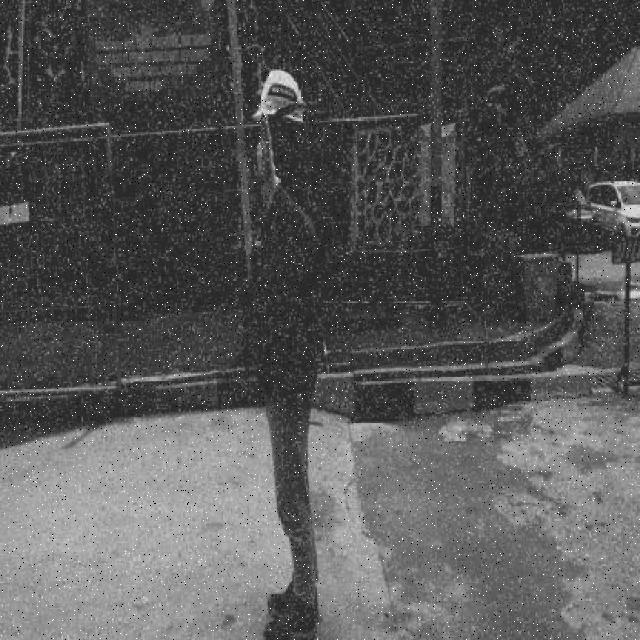Boots: (262, 590, 318, 639), (267, 579, 321, 624)
Gloves: (256, 109, 281, 200)
Helmet: (250, 66, 307, 126)
Mask: (242, 196, 327, 355)
